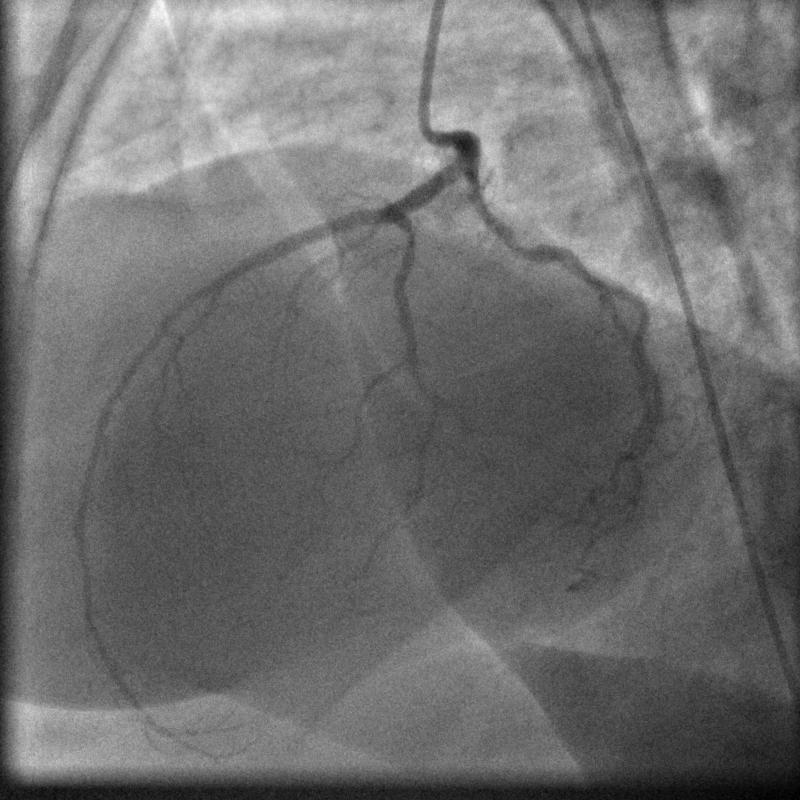Stenosis: (498, 219, 546, 288)
